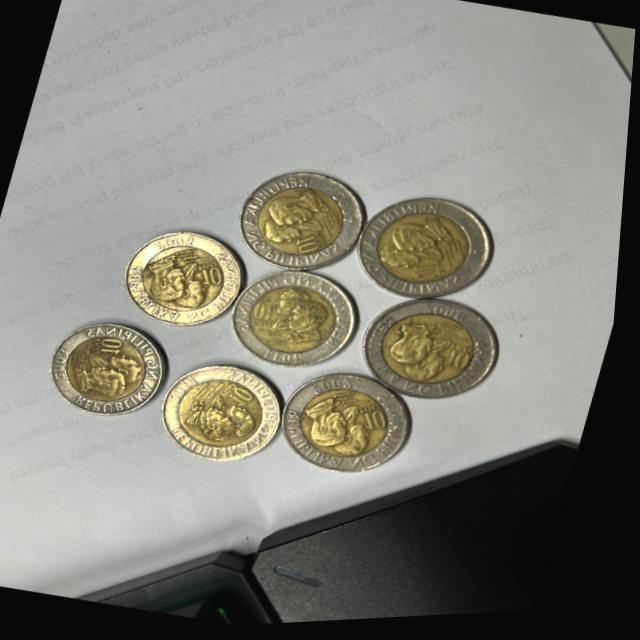10_Old_Front: (197, 262, 233, 291), (96, 333, 132, 361), (227, 386, 262, 412), (409, 263, 443, 289), (365, 409, 397, 436), (446, 350, 480, 375), (295, 235, 325, 260), (253, 301, 284, 325)
